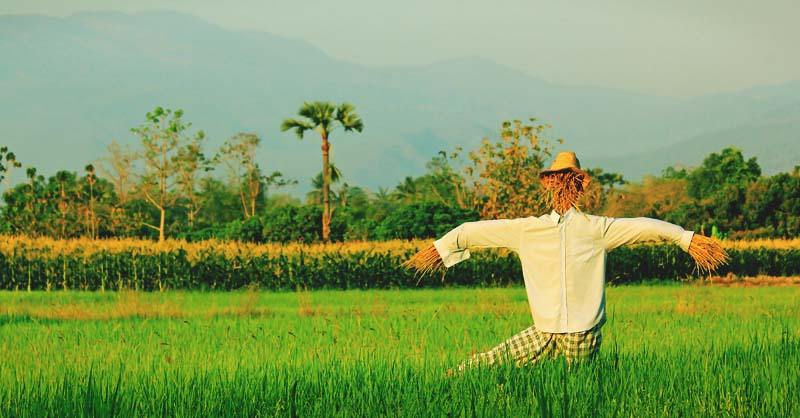person-like: (393, 143, 734, 386)
